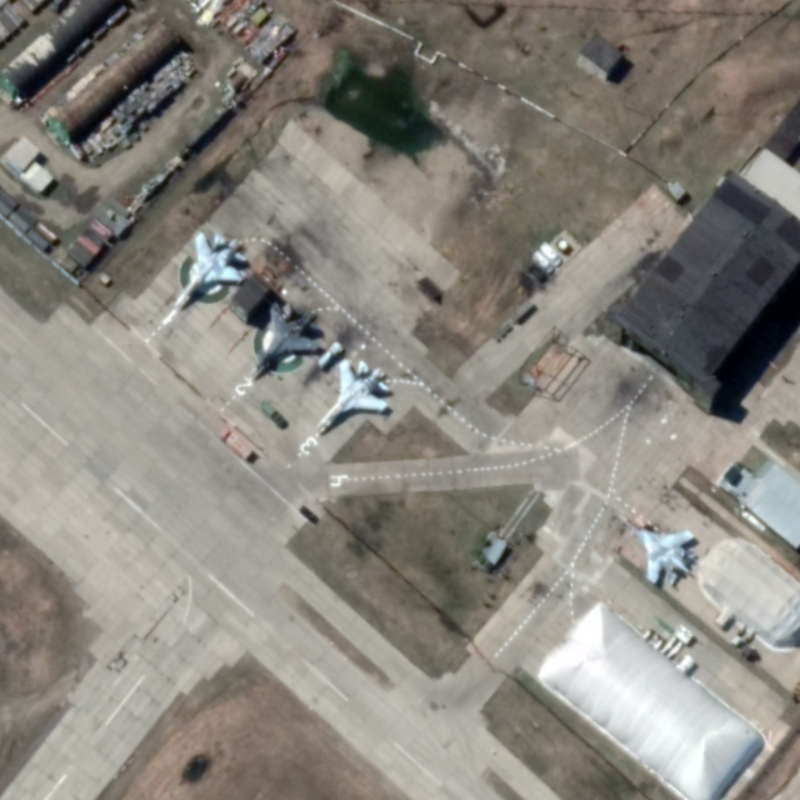A1: (614, 512, 701, 590), (170, 229, 247, 317), (313, 357, 393, 438), (247, 301, 320, 383)
